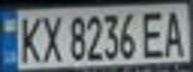2: (84, 11, 106, 62)
3: (103, 10, 124, 61)
6: (118, 8, 142, 60)
8: (63, 11, 87, 62)
A: (160, 6, 190, 57)
E: (139, 7, 169, 58)
K: (12, 12, 45, 64)
X: (36, 11, 66, 63)
